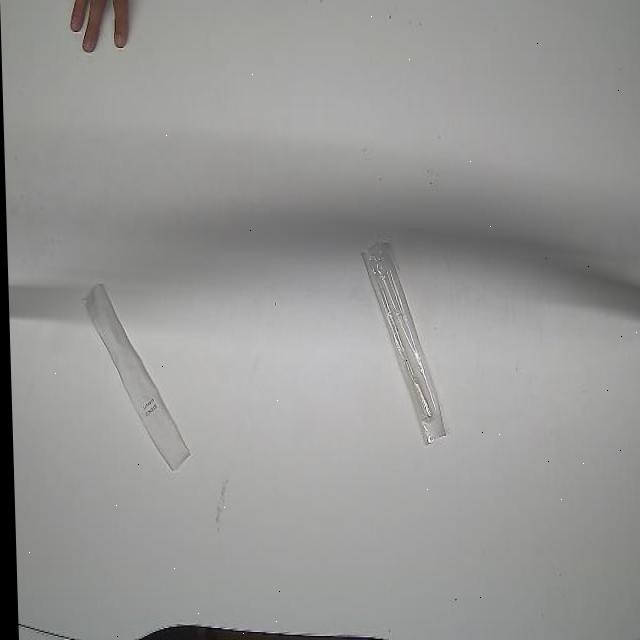Disposable Pasteur Pipette: (81, 276, 192, 476), (357, 239, 448, 445)
